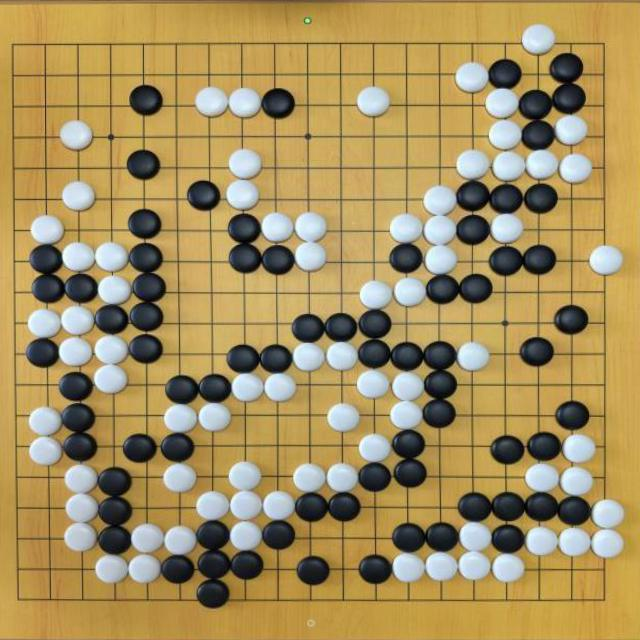blackstone: (127, 208, 162, 240), (131, 272, 166, 304), (60, 402, 95, 434), (262, 88, 296, 120), (129, 84, 163, 116), (552, 82, 586, 114), (521, 119, 555, 151), (456, 180, 490, 212), (554, 304, 589, 335), (97, 497, 132, 528), (195, 520, 230, 551), (128, 243, 164, 273), (96, 467, 132, 497), (62, 432, 98, 462), (488, 58, 522, 89), (550, 52, 584, 83), (556, 400, 590, 431), (456, 214, 490, 245), (29, 244, 63, 275), (197, 550, 231, 581), (58, 372, 93, 402), (129, 302, 164, 332), (94, 304, 129, 334), (524, 492, 559, 522), (97, 526, 132, 556), (127, 149, 160, 180), (65, 273, 98, 304), (519, 90, 553, 120), (524, 184, 558, 214), (227, 213, 261, 243), (228, 244, 262, 274), (489, 246, 523, 276), (129, 334, 163, 364), (31, 274, 65, 304), (25, 338, 59, 368), (423, 341, 457, 371), (458, 492, 492, 522), (392, 523, 426, 553), (294, 492, 328, 522), (492, 492, 526, 522), (230, 550, 264, 580), (489, 436, 524, 465), (164, 375, 199, 404), (187, 180, 220, 210), (523, 245, 556, 275), (490, 184, 523, 214), (358, 310, 391, 340), (426, 274, 459, 304), (558, 496, 591, 526), (358, 463, 391, 493), (492, 524, 525, 554), (426, 522, 459, 552), (520, 338, 554, 367), (324, 313, 358, 342), (198, 374, 232, 403), (122, 434, 156, 463), (160, 433, 194, 462), (527, 432, 561, 461), (296, 556, 330, 585), (391, 429, 425, 458), (358, 555, 392, 584), (423, 369, 457, 398), (262, 521, 296, 550), (196, 580, 230, 609), (160, 555, 195, 583), (262, 245, 294, 275), (390, 243, 422, 273), (292, 313, 324, 343), (328, 492, 360, 522), (423, 399, 456, 428), (358, 339, 391, 368), (394, 459, 427, 488), (390, 342, 423, 371), (460, 274, 492, 303), (226, 345, 259, 373), (260, 344, 292, 372)
whitestone: (58, 118, 94, 152), (520, 22, 556, 56), (587, 243, 624, 276), (92, 363, 128, 395), (60, 305, 96, 337), (64, 492, 100, 524), (228, 148, 263, 180), (558, 153, 593, 185), (357, 86, 391, 118), (226, 179, 260, 211), (30, 214, 64, 246), (62, 241, 96, 273), (490, 213, 524, 245), (423, 214, 457, 246), (554, 115, 589, 146), (94, 334, 129, 365), (524, 463, 560, 493), (162, 463, 198, 493), (94, 554, 130, 584), (194, 86, 228, 117), (228, 87, 262, 118), (454, 62, 488, 93), (485, 88, 519, 119), (456, 149, 490, 180), (95, 242, 129, 273), (423, 185, 457, 216), (488, 120, 522, 151), (492, 151, 526, 182), (98, 275, 132, 306), (59, 336, 93, 367), (27, 308, 62, 338), (63, 522, 98, 552), (163, 404, 198, 434), (28, 436, 63, 466), (195, 491, 230, 521), (131, 523, 166, 553), (163, 526, 198, 556), (590, 529, 625, 559), (526, 148, 558, 180), (62, 181, 95, 212), (424, 245, 457, 276), (389, 213, 422, 244), (562, 434, 596, 464), (28, 406, 62, 436), (264, 372, 298, 402), (198, 402, 232, 432), (228, 461, 262, 491), (292, 463, 326, 493), (591, 499, 625, 529), (64, 464, 98, 494), (230, 490, 264, 520), (525, 526, 559, 556), (230, 521, 264, 551), (128, 554, 162, 584), (295, 212, 327, 243), (261, 212, 293, 243), (359, 280, 392, 310), (294, 242, 327, 272), (457, 341, 490, 371), (560, 466, 593, 496), (459, 521, 492, 551), (392, 553, 426, 582), (394, 277, 426, 307), (293, 342, 325, 372), (392, 372, 424, 402), (358, 433, 390, 463), (390, 401, 423, 430), (425, 552, 458, 581), (327, 403, 360, 432), (356, 370, 389, 399), (326, 463, 359, 492), (263, 491, 296, 520), (558, 527, 591, 556), (492, 553, 525, 582), (458, 551, 491, 580), (326, 342, 358, 371), (232, 373, 264, 401)
